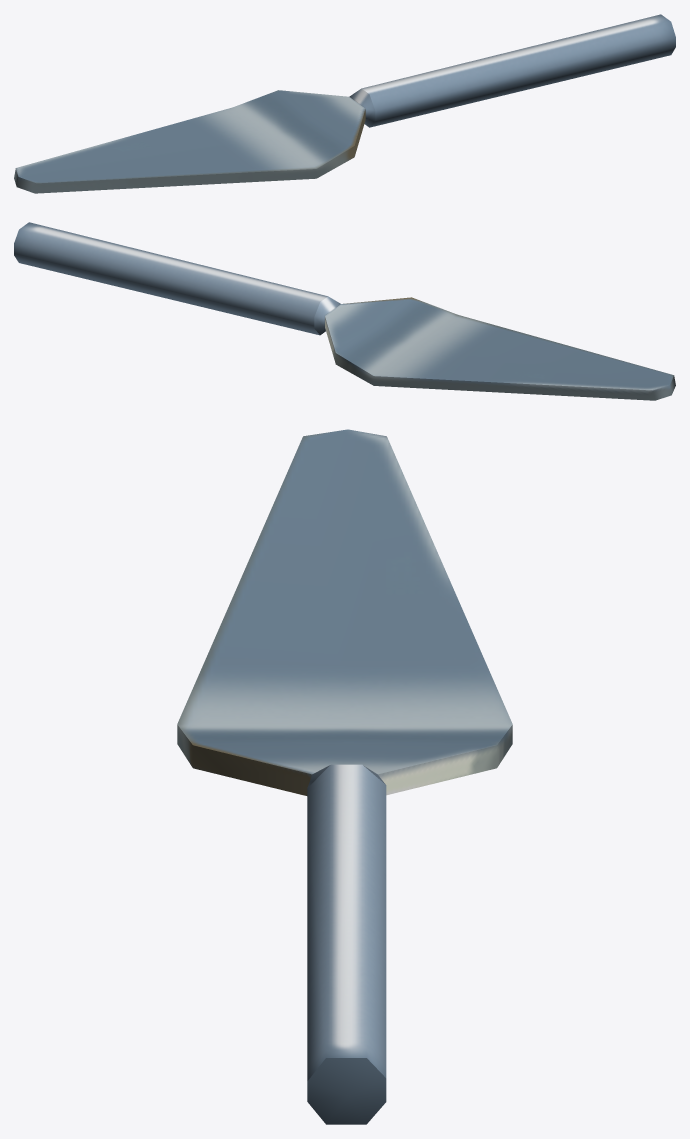
Rendered from Cake_Server_02.fbx.
3 views of the same model, one above another, from view 1: azimuth 30°, elevation 25°; view 2: azimuth 150°, elevation 25°; view 3: azimuth 270°, elevation 25° (orthographic). The views are drawn at different scales.
Visible parts, largest first — view 1: Cake_Server_02; view 2: Cake_Server_02; view 3: Cake_Server_02.
Boxes of the visible parts, x1,y1,x2,y2 form: Cake_Server_02: (14, 14, 675, 193); Cake_Server_02: (14, 222, 675, 400); Cake_Server_02: (177, 429, 512, 1124).
Size of the model in its own units: 114 by 5.64 by 25.22.
